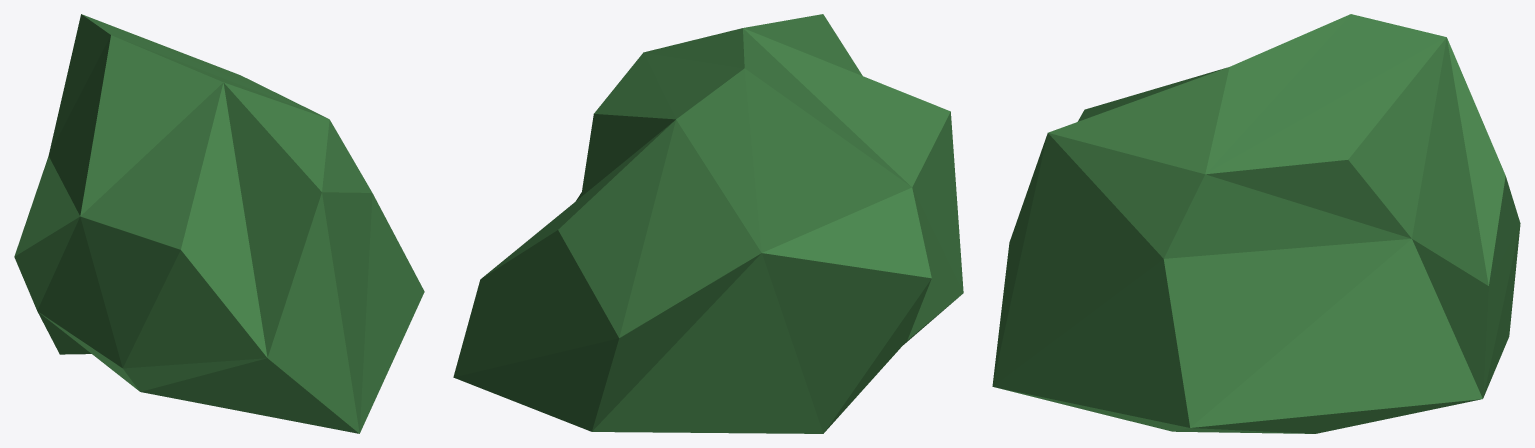
The model's file is bush.fbx.
3 renders of one model, left to right at view 1: azimuth 30°, elevation 25°; view 2: azimuth 150°, elevation 25°; view 3: azimuth 270°, elevation 25°, orthographic. The views are drawn at different scales.
Visible parts, largest first — view 1: pSolid1; view 2: pSolid1; view 3: pSolid1.
Boxes of the visible parts, x1,y1,x2,y2 form: pSolid1: (14, 14, 424, 433); pSolid1: (453, 14, 963, 433); pSolid1: (992, 14, 1520, 433).
Size of the model in its own units: 3.79 by 2.96 by 4.31.
